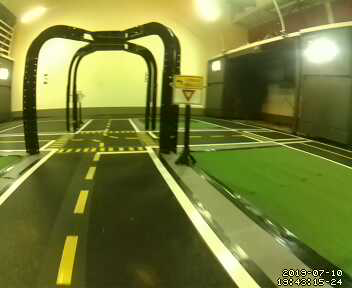Turn Yield: (170, 75, 205, 108)
